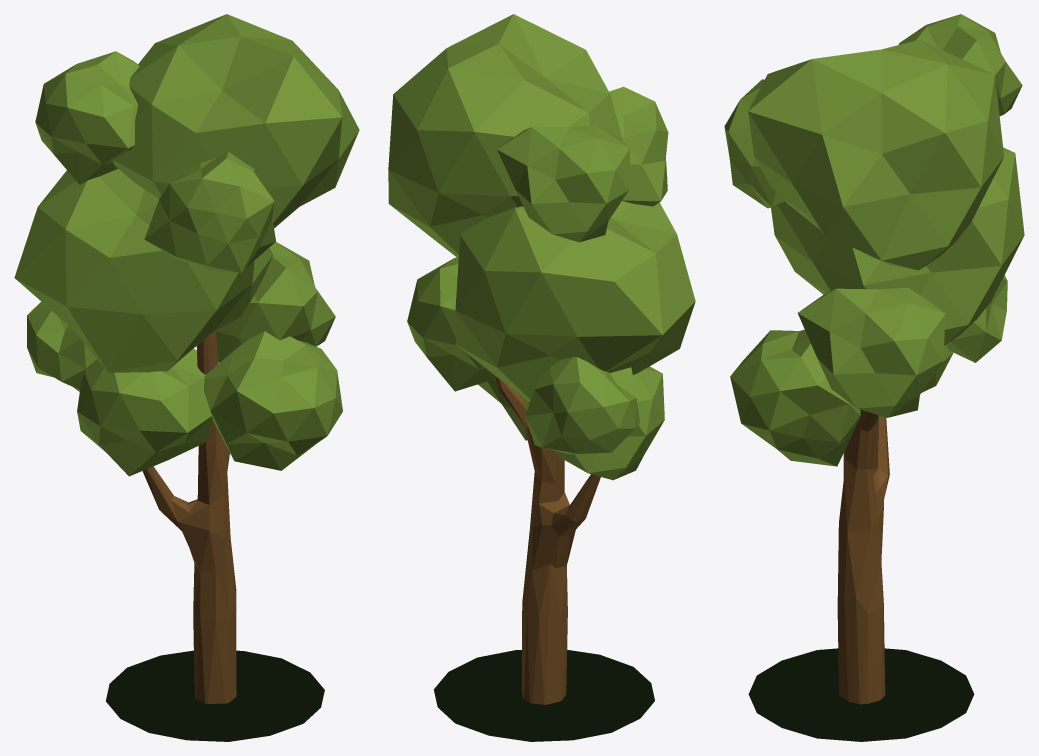
File: Drzewo2.fbx
3 views of the same model, side by side, from view 1: azimuth 30°, elevation 25°; view 2: azimuth 150°, elevation 25°; view 3: azimuth 270°, elevation 25° (orthographic). The views are drawn at different scales.
Visible parts, largest first — view 1: Drzewo2; view 2: Drzewo2; view 3: Drzewo2.
Part boxes in pixels (x1,y1,x2,y2): Drzewo2: [14, 14, 359, 741]; Drzewo2: [388, 14, 695, 741]; Drzewo2: [724, 14, 1024, 741].
Size of the model in its own units: 202 by 445 by 173.
